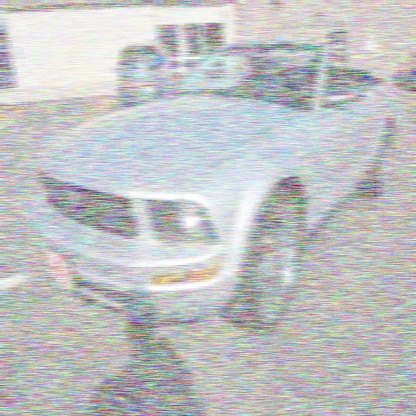Vehicle: (26, 39, 400, 341)
